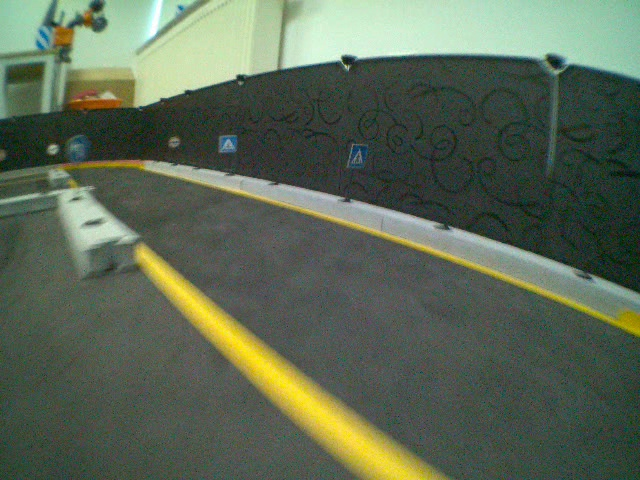Check: (167, 135, 181, 150)
crossing: (346, 142, 370, 169), (219, 135, 238, 154)
